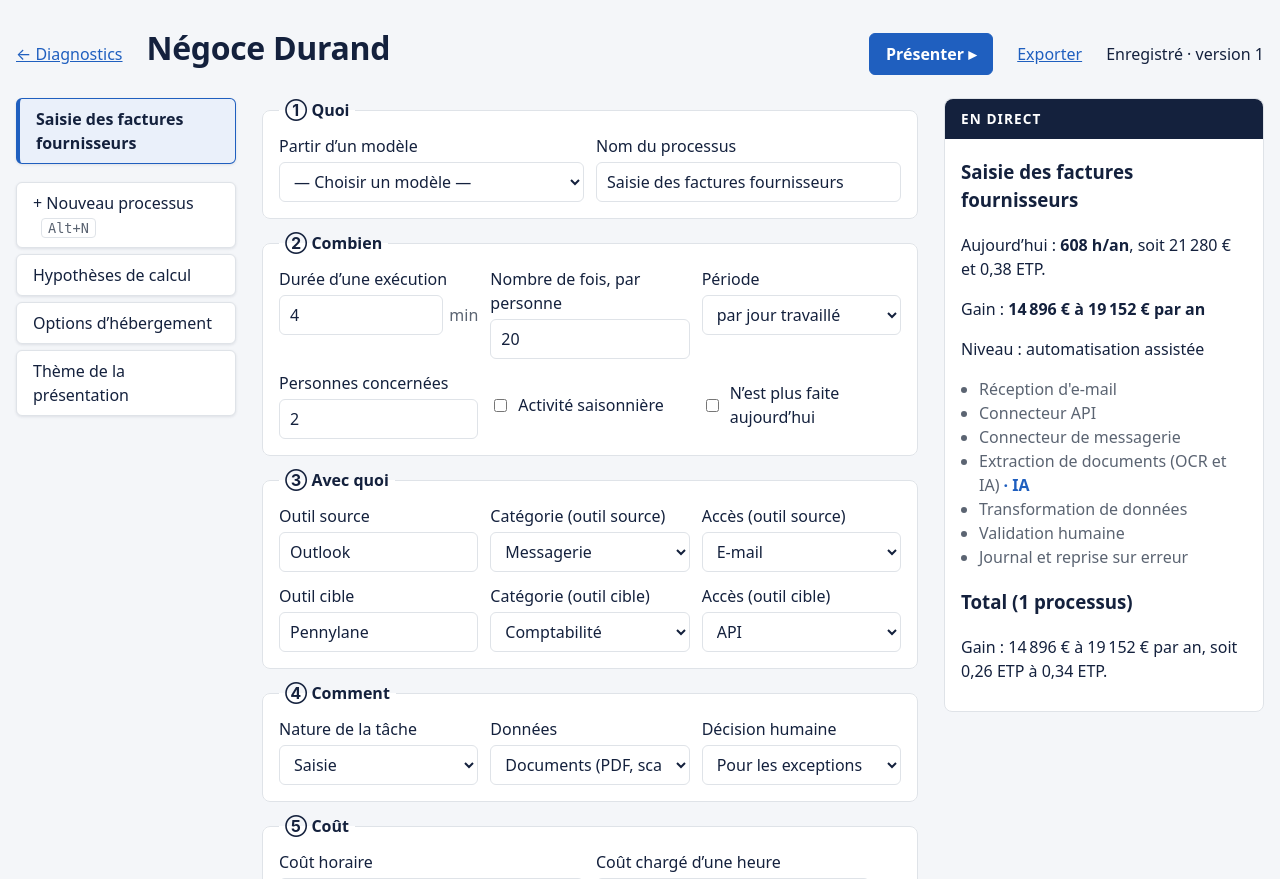
it: Entretien › signale une modification faite ailleurs et recharge la version actuelle
Expected: the heading "Négoce Durand" is shown, [146, 26, 390, 69]
Type " bis" into the field labelled "Nom du processus" at coordinates (748, 182), box [596, 162, 901, 202]
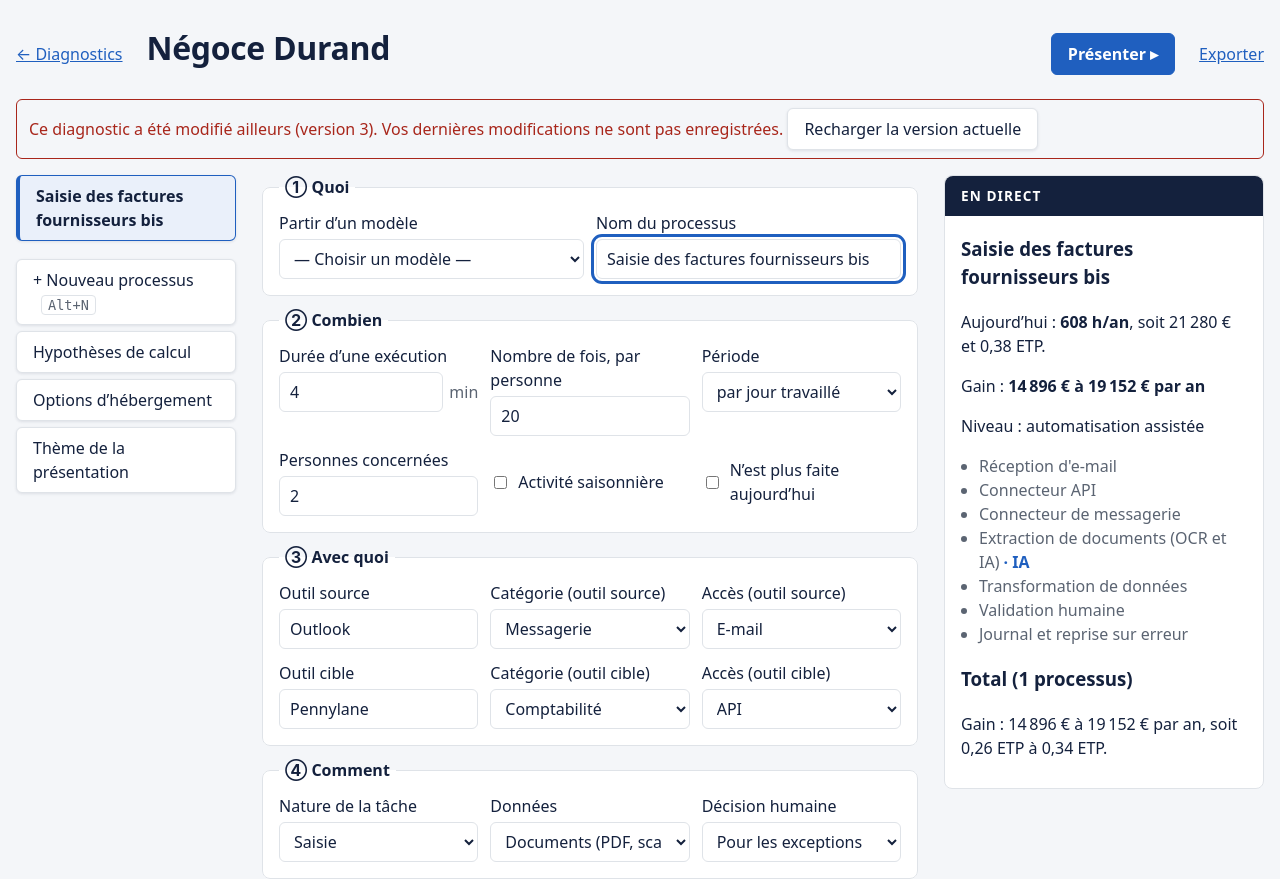
Expected: the message shows "modifié ailleurs (version 3)", [16, 99, 1264, 159]
Click the button "Recharger la version actuelle" at coordinates (913, 129), box [787, 108, 1038, 150]
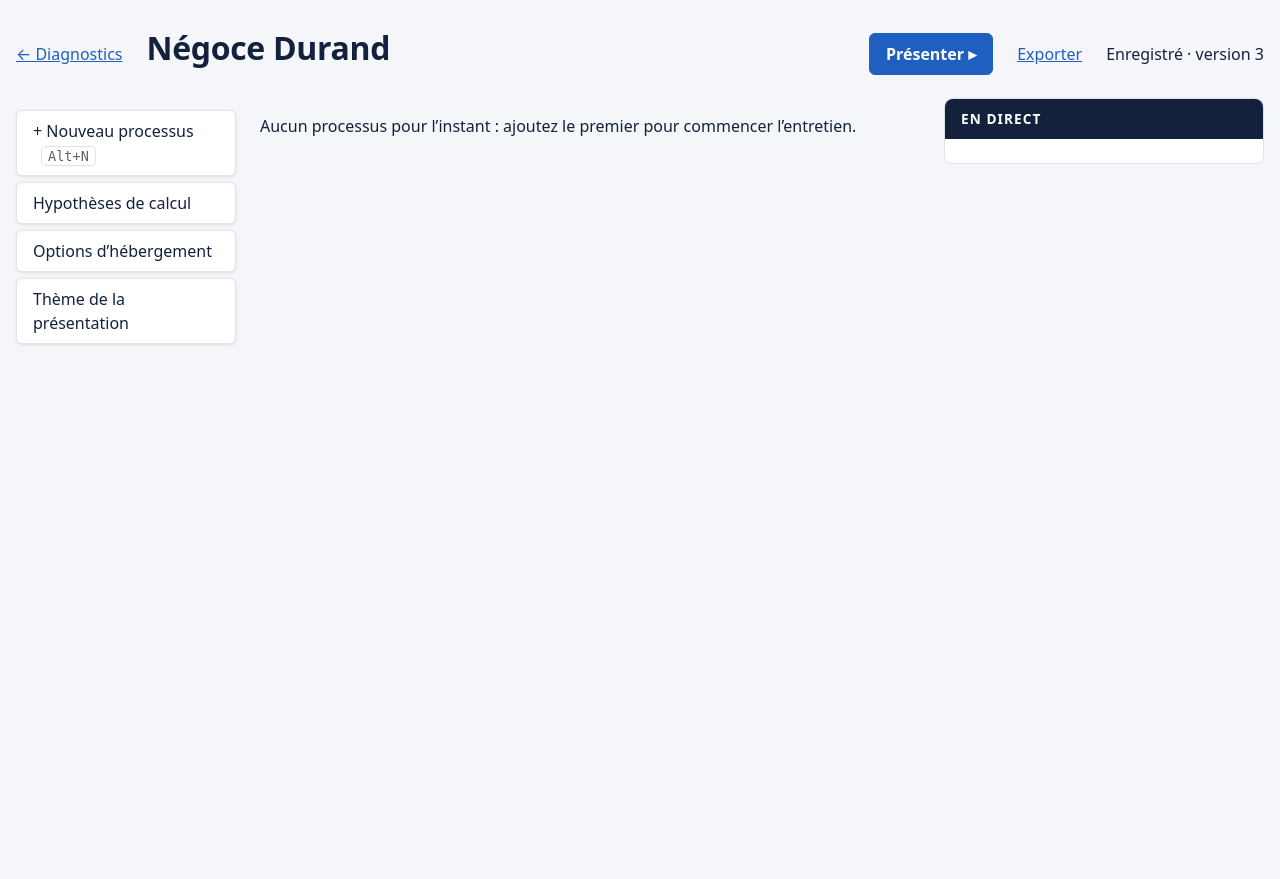
Expected: the text "Aucun processus pour l’instant" is shown, [260, 115, 856, 137]
